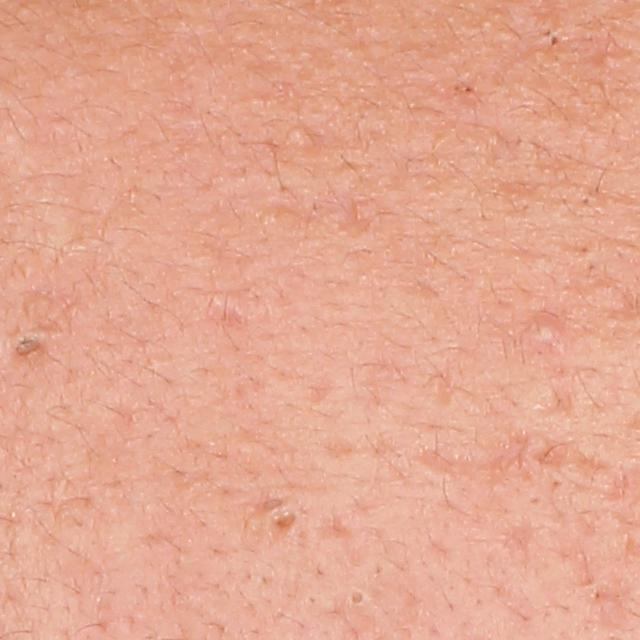atrophic_scar: (535, 441, 623, 477), (499, 515, 551, 564), (413, 449, 483, 485), (533, 393, 571, 423), (270, 510, 301, 537), (326, 438, 356, 458), (262, 496, 288, 513)
comedo: (11, 330, 52, 365), (282, 123, 322, 155), (348, 586, 369, 607), (597, 52, 617, 67)
papule: (330, 197, 379, 241), (526, 314, 562, 346)
